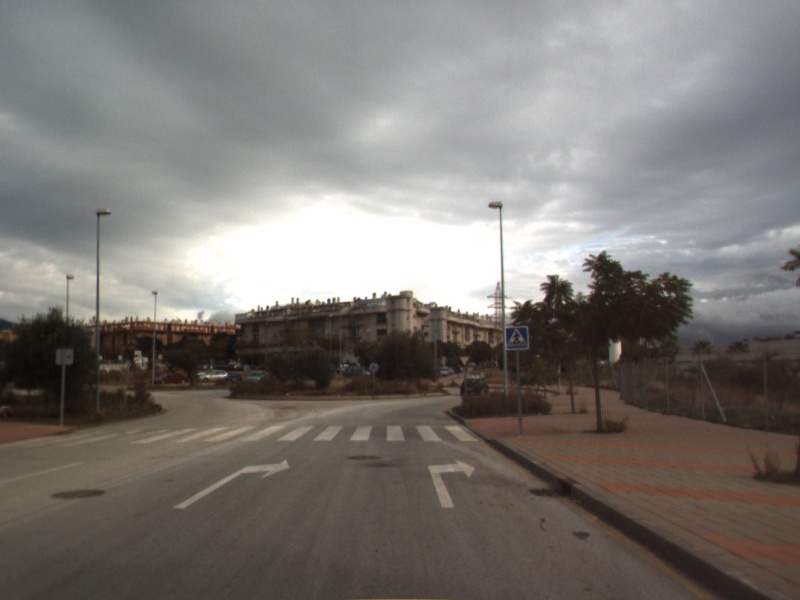RIGHT: (171, 457, 292, 511), (426, 456, 477, 510)
